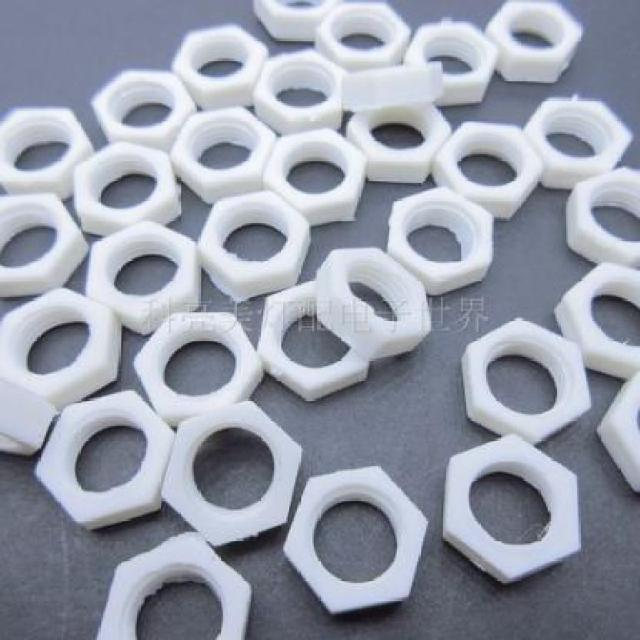Nut: (283, 464, 430, 619), (442, 433, 583, 587), (162, 399, 304, 550), (32, 388, 177, 534), (462, 316, 594, 447), (98, 530, 252, 640), (131, 309, 263, 429), (0, 285, 124, 408), (256, 280, 371, 405), (85, 218, 203, 336), (314, 245, 432, 360), (195, 188, 312, 303), (385, 183, 495, 297), (432, 120, 544, 222), (71, 139, 185, 239), (170, 104, 278, 204), (522, 94, 634, 190), (263, 127, 370, 227), (555, 261, 640, 380), (0, 190, 90, 302), (90, 67, 198, 154), (0, 105, 96, 199), (169, 21, 270, 110), (346, 104, 455, 186), (402, 18, 499, 109), (484, 0, 584, 85), (251, 47, 346, 135), (565, 166, 640, 270), (313, 0, 412, 70), (338, 59, 444, 114), (594, 375, 640, 497), (0, 379, 60, 459), (252, 0, 338, 43)
